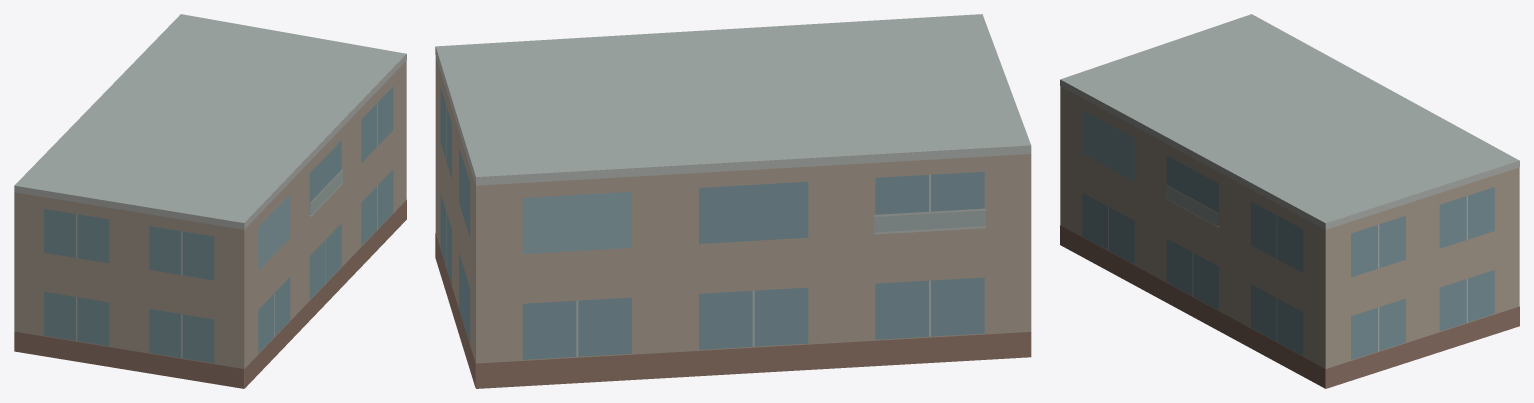
File: survey-upis-32774040.glb
The picture shows the model from 3 angles, left to right: view 1: azimuth 30°, elevation 25°; view 2: azimuth 150°, elevation 25°; view 3: azimuth 270°, elevation 25°; orthographic projection. The views are drawn at different scales.
Parts seen in each view (by area): view 1: survey-upis-32774040.tmp; view 2: survey-upis-32774040.tmp; view 3: survey-upis-32774040.tmp.
Boxes of the visible parts, bbox=[...] form: survey-upis-32774040.tmp: bbox=[14, 14, 406, 388]; survey-upis-32774040.tmp: bbox=[435, 14, 1031, 388]; survey-upis-32774040.tmp: bbox=[1060, 14, 1519, 388].
Bounding box in the file's own units: 16.55 × 6.1 × 15.36.
